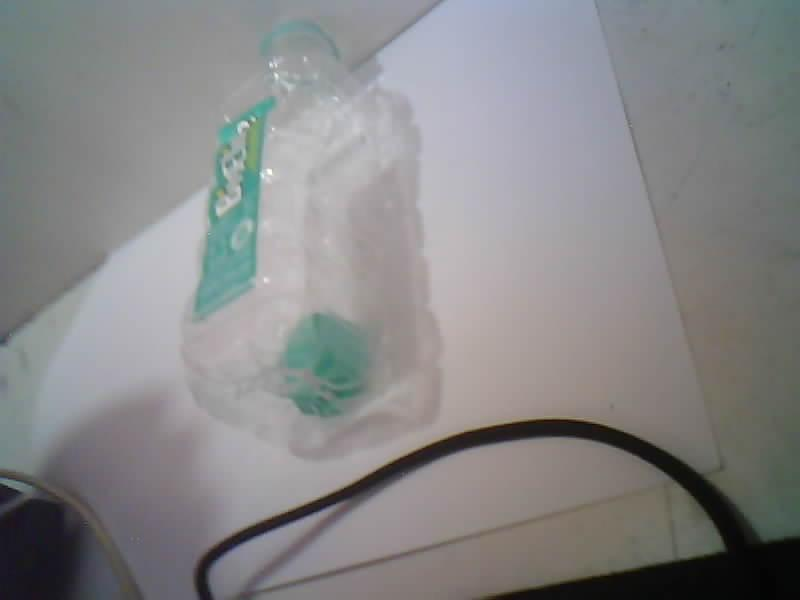non-biodegradable: (181, 21, 438, 457)
